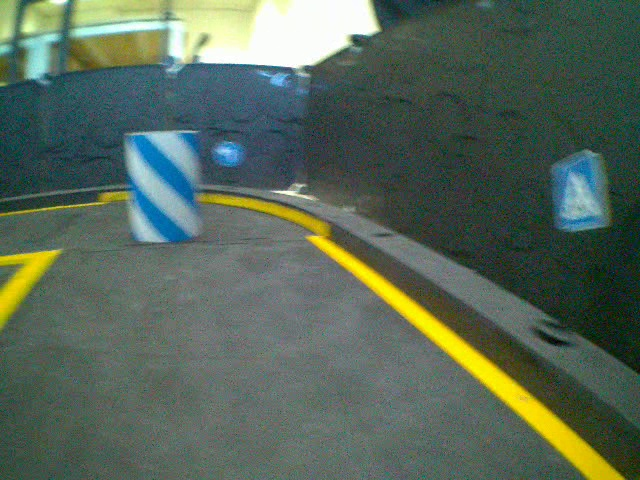bucket: (123, 124, 206, 246)
